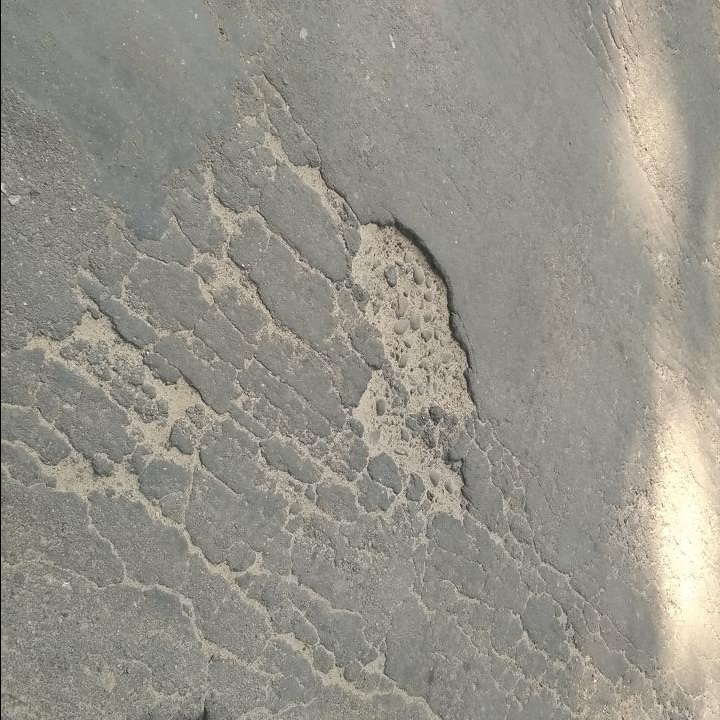pothole: (342, 211, 481, 524)
